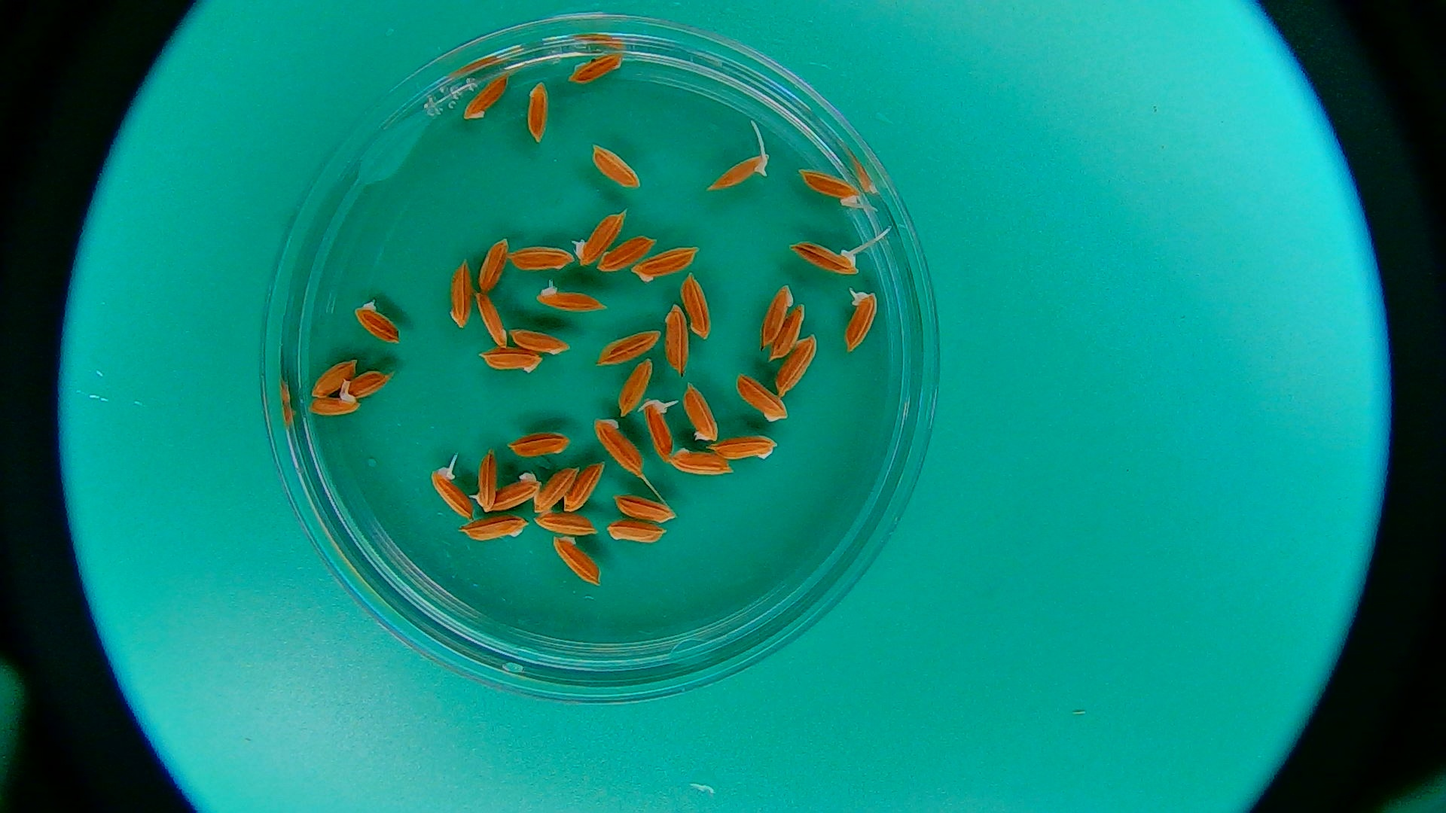no: (584, 416, 649, 484), (548, 529, 606, 592), (346, 294, 404, 347), (528, 458, 582, 514), (701, 429, 780, 466), (679, 377, 720, 448), (560, 457, 610, 515), (574, 210, 625, 266), (487, 468, 545, 517), (302, 352, 361, 399), (764, 301, 807, 365), (602, 516, 668, 557), (610, 483, 676, 524), (587, 142, 645, 188), (533, 500, 599, 540), (470, 288, 511, 352), (462, 65, 506, 123), (465, 432, 496, 514), (453, 516, 528, 549), (629, 248, 703, 281), (507, 323, 575, 358), (737, 374, 786, 422), (668, 446, 737, 480), (591, 238, 657, 273), (334, 367, 404, 399), (598, 330, 660, 366), (662, 303, 691, 379), (778, 332, 815, 391), (504, 242, 575, 272), (570, 47, 624, 86), (477, 346, 545, 376), (523, 78, 554, 142), (476, 233, 508, 294), (682, 273, 712, 337), (763, 279, 793, 343), (447, 257, 472, 330), (620, 360, 651, 418), (507, 429, 563, 458)
yes: (788, 241, 862, 279), (712, 147, 770, 193), (426, 467, 475, 521), (639, 400, 675, 462), (843, 290, 880, 346), (535, 282, 604, 311), (805, 172, 862, 204), (304, 388, 364, 417)
